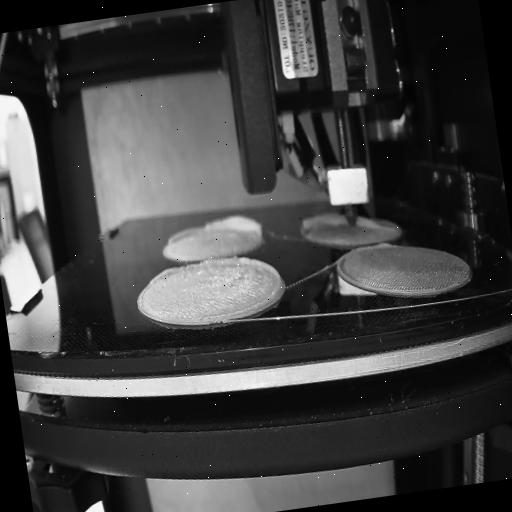over_extrusion: (298, 210, 344, 233), (144, 264, 186, 288), (358, 211, 392, 238), (376, 241, 396, 253)
